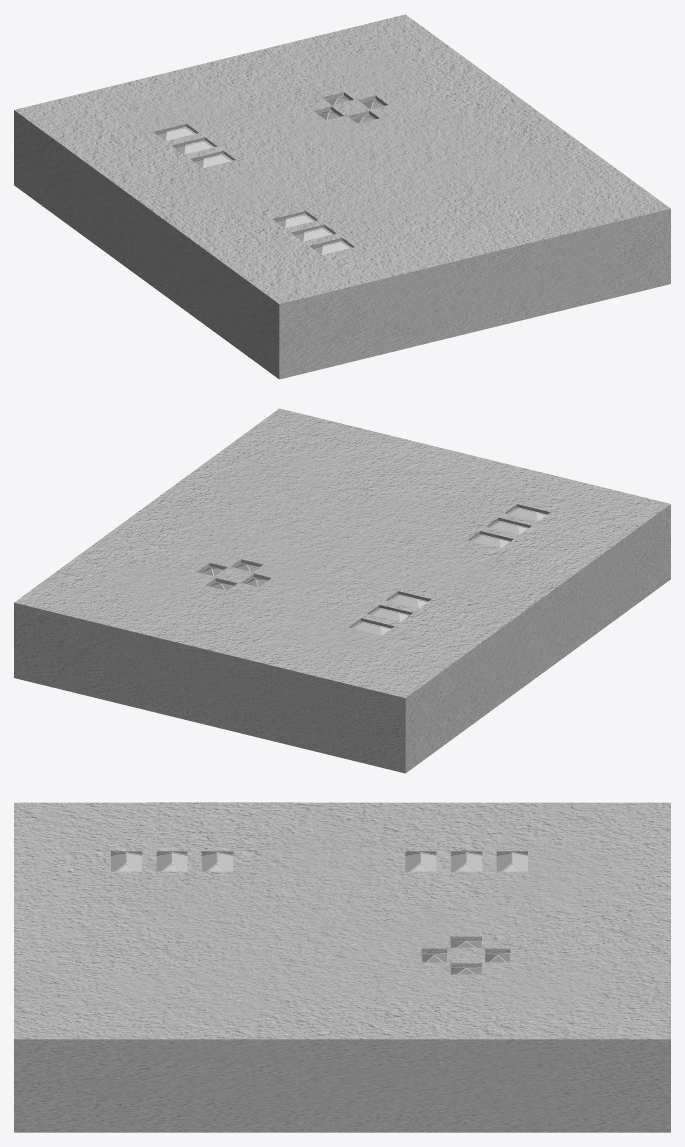
The model's file is museum_space.FBX.
3 renders of one model, top to bottom at view 1: azimuth 30°, elevation 25°; view 2: azimuth 150°, elevation 25°; view 3: azimuth 270°, elevation 25°, orthographic. The views are drawn at different scales.
Parts seen in each view (by area): view 1: bounding_box, glass_hall002, glass_hall1; view 2: bounding_box, glass_hall002, glass_hall1; view 3: bounding_box, glass_hall002, glass_hall1, glass_hall3.
Part boxes in pixels (x1,y1,x2,y2): bounding_box: (14,14,670,379); glass_hall002: (157,127,231,167); glass_hall1: (276,214,349,254); bounding_box: (14,408,670,773); glass_hall002: (353,595,427,635); glass_hall1: (472,508,546,547); bounding_box: (14,802,670,1132); glass_hall002: (405,853,527,871); glass_hall1: (111,853,232,871); glass_hall3: (422,941,510,974).
Bounding box in the file's own units: 3979 × 767 × 4669.
